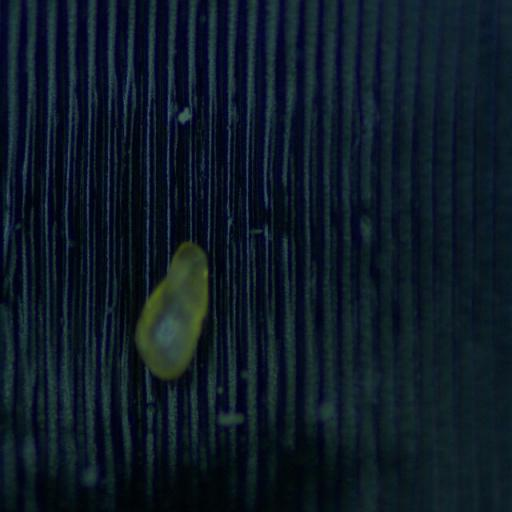mineral: (136, 243, 207, 378)
